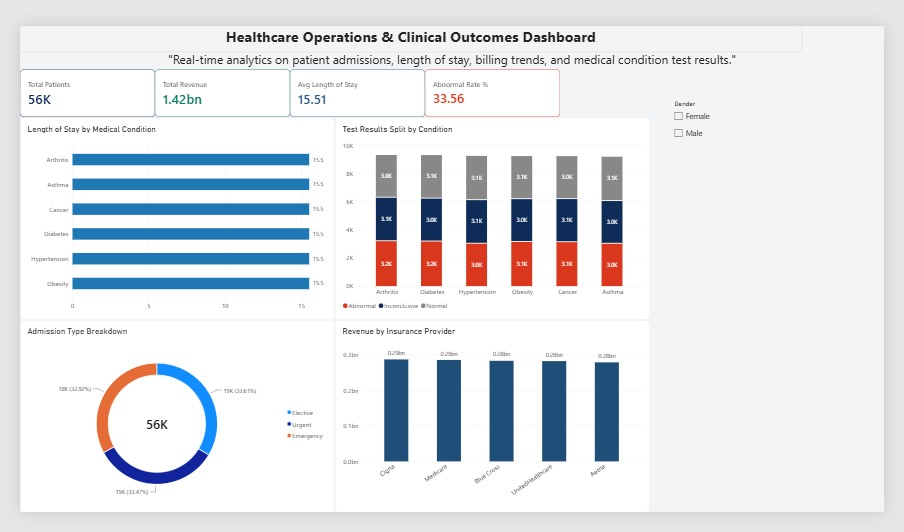

The page's visual inventory and layout, read from the dashboard file:
{"tool":"powerbi","page":{"name":"Page 1","canvas":[1920,1080],"ordinal":0},"visuals":[{"type":"cardVisual","fields":{"Data":["healthcaredb healthcare_data.Total Revenue"]},"box":[300,97.5,300,105],"z":0},{"type":"cardVisual","fields":{"Data":["healthcaredb healthcare_data.Total Patients"]},"box":[0,97.5,300,105],"z":1000},{"type":"cardVisual","fields":{"Data":["healthcaredb healthcare_data.Avg Length of Stay"]},"box":[600,97.5,300,105],"z":2000},{"type":"cardVisual","fields":{"Data":["healthcaredb healthcare_data.Abnormal Rate %"]},"box":[900,97.5,300,105],"z":3000},{"type":"clusteredBarChart","title":"Length of Stay by Medical Condition","fields":{"Category":["healthcaredb healthcare_data.Medical_Condition"],"Y":["healthcaredb healthcare_data.Avg Length of Stay"]},"box":[0,204,700,450],"z":4000},{"type":"donutChart","title":"Admission Type Breakdown","fields":{"Category":["healthcaredb healthcare_data.Admission_Type"],"Y":["healthcaredb healthcare_data.Total Patients"]},"box":[0,652.5,700,427.5],"z":5000},{"type":"clusteredColumnChart","title":"Revenue by Insurance Provider","fields":{"Category":["healthcaredb healthcare_data.Insurance_Provider"],"Y":["healthcaredb healthcare_data.Total Revenue"]},"box":[700,652.5,700,427.5],"z":6000},{"type":"columnChart","title":"Test Results Split by Condition","fields":{"Category":["healthcaredb healthcare_data.Medical_Condition"],"Series":["healthcaredb healthcare_data.Test_Results"],"Y":["healthcaredb healthcare_data.Total Patients"]},"box":[700,202.5,700,450],"z":7000},{"type":"slicer","fields":{"Values":["healthcaredb healthcare_data.Gender"]},"box":[1447.5,162.5,212.5,147.5],"z":8000},{"type":"textbox","box":[0,0,1737.5,57.5],"z":9000},{"type":"textbox","box":[0,57.5,1920,40],"z":10000}]}

Visuals, with their boxes on the page's 1920x1080 design canvas (x1, y1, x2, y2). These are canvas units, not pixel positions in the 904x532 screenshot, which may show the page scaled, cropped or inside an application window:
cardVisual - healthcaredb healthcare_data.Total Revenue: pyautogui.locateOnScreen(300, 98, 600, 202)
cardVisual - healthcaredb healthcare_data.Total Patients: pyautogui.locateOnScreen(0, 98, 300, 202)
cardVisual - healthcaredb healthcare_data.Avg Length of Stay: pyautogui.locateOnScreen(600, 98, 900, 202)
cardVisual - healthcaredb healthcare_data.Abnormal Rate %: pyautogui.locateOnScreen(900, 98, 1200, 202)
"Length of Stay by Medical Condition" clusteredBarChart: pyautogui.locateOnScreen(0, 204, 700, 654)
"Admission Type Breakdown" donutChart: pyautogui.locateOnScreen(0, 652, 700, 1080)
"Revenue by Insurance Provider" clusteredColumnChart: pyautogui.locateOnScreen(700, 652, 1400, 1080)
"Test Results Split by Condition" columnChart: pyautogui.locateOnScreen(700, 202, 1400, 652)
slicer - healthcaredb healthcare_data.Gender: pyautogui.locateOnScreen(1448, 162, 1660, 310)
textbox: pyautogui.locateOnScreen(0, 0, 1738, 58)
textbox: pyautogui.locateOnScreen(0, 58, 1920, 98)
